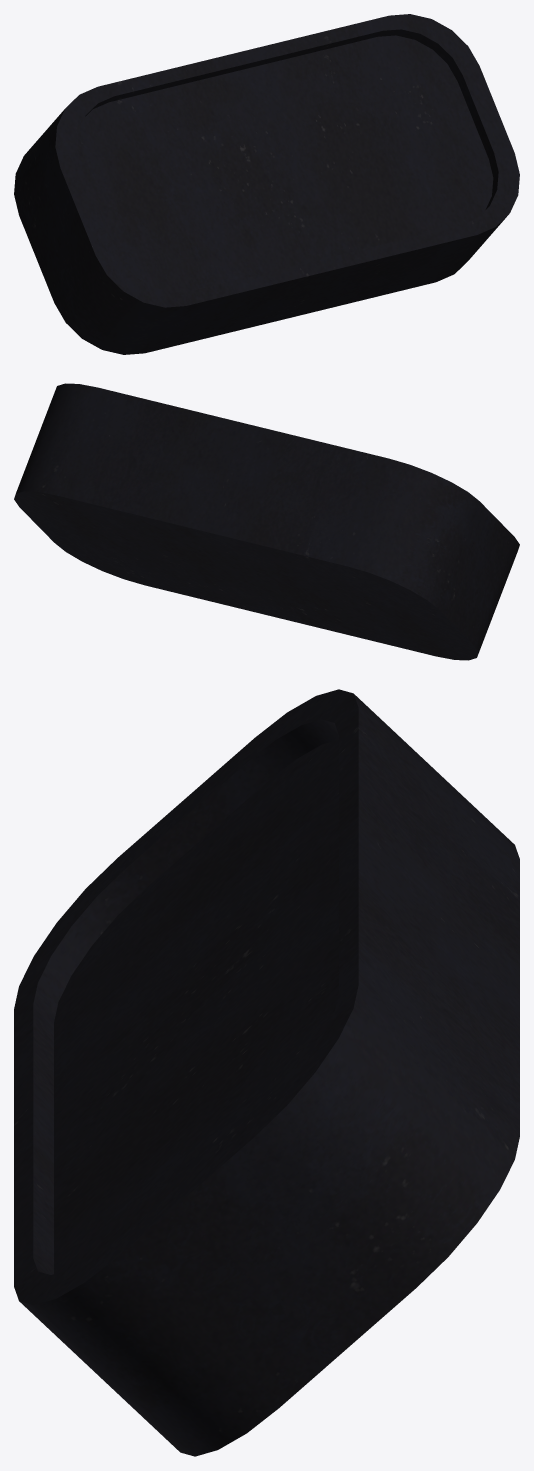
The model's file is ufo_timer.fbx.
The picture shows the model from 3 angles, top to bottom: view 1: azimuth 30°, elevation 25°; view 2: azimuth 150°, elevation 25°; view 3: azimuth 270°, elevation 25°; orthographic projection. The views are drawn at different scales.
Visible parts, largest first — view 1: ufo_timer; view 2: ufo_timer; view 3: ufo_timer.
Part boxes in pixels (x1,y1,x2,y2): ufo_timer: [14, 14, 519, 354]; ufo_timer: [14, 383, 519, 660]; ufo_timer: [14, 689, 519, 1456].
Size of the model in its own units: 165 by 87.27 by 88.34.
